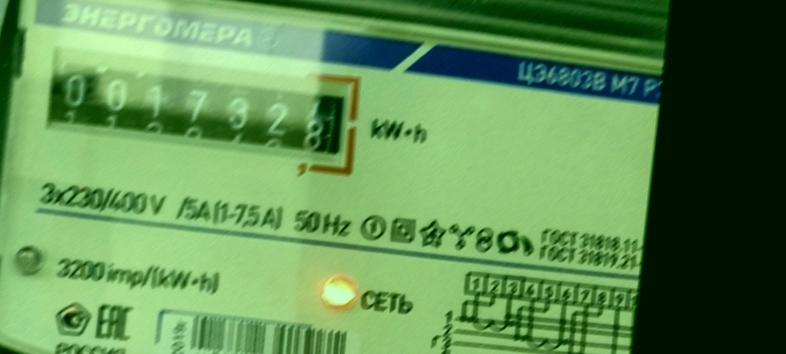0: (64, 70, 90, 109), (105, 77, 129, 112)
1: (148, 81, 166, 119)
2: (265, 100, 290, 138)
3: (226, 94, 252, 132)
7: (184, 85, 211, 125)
8: (302, 115, 325, 152)
screen: (35, 43, 367, 178)
